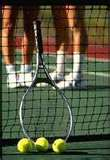tennis ball: (16, 138, 33, 154), (51, 138, 67, 154), (35, 137, 50, 153)
